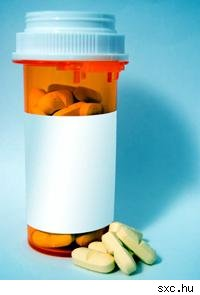pill bottle: (14, 12, 127, 257)
